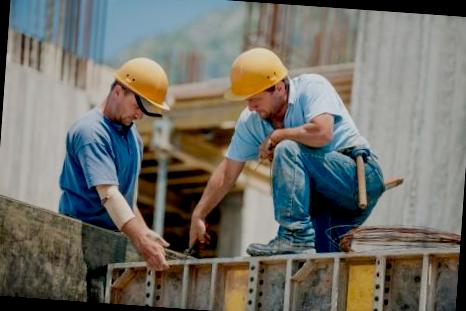helmet: (221, 44, 291, 108), (106, 52, 177, 113)
no_vest: (234, 90, 363, 164), (62, 112, 148, 222)
person: (214, 42, 395, 258), (57, 50, 179, 230)
